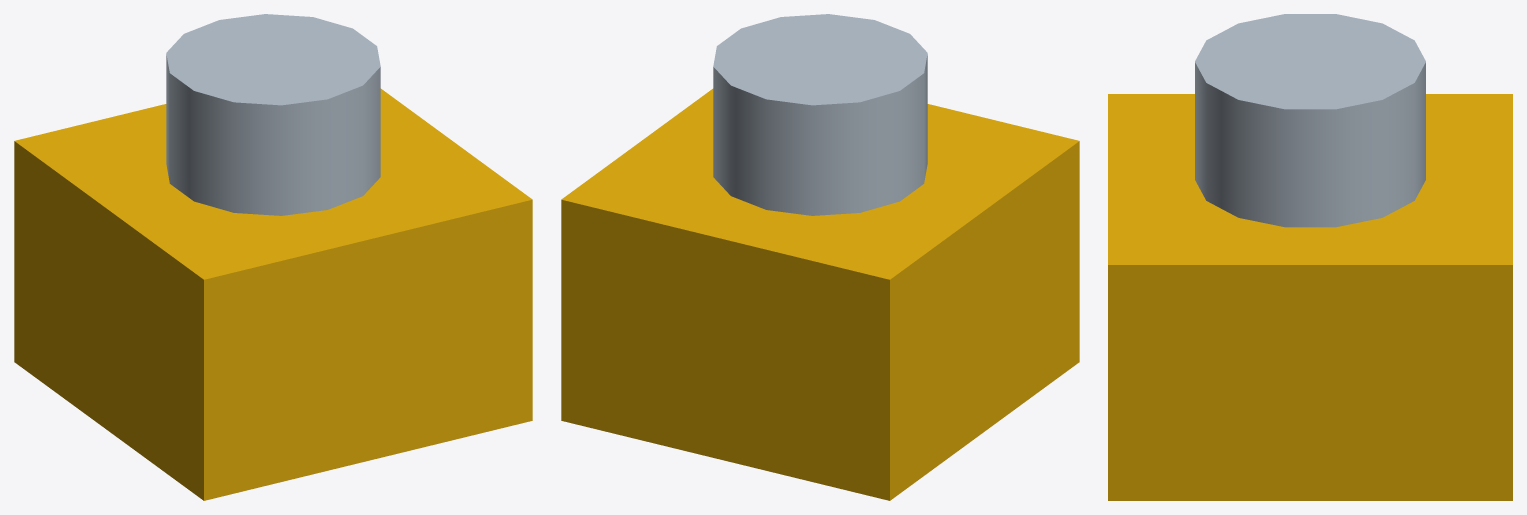
File: fit-ceiling-register-box.glb
3 views of the same model, side by side, from view 1: azimuth 30°, elevation 25°; view 2: azimuth 150°, elevation 25°; view 3: azimuth 270°, elevation 25° (orthographic). The views are drawn at different scales.
Visible parts, largest first — view 1: hvac-fitting-ceiling-register-box; view 2: hvac-fitting-ceiling-register-box; view 3: hvac-fitting-ceiling-register-box.
Boxes of the visible parts, bbox=[...] form: hvac-fitting-ceiling-register-box: bbox=[14, 14, 532, 500]; hvac-fitting-ceiling-register-box: bbox=[561, 14, 1079, 500]; hvac-fitting-ceiling-register-box: bbox=[1108, 14, 1512, 500].
Bounding box in the file's own units: 0.28 × 0.27 × 0.28.
